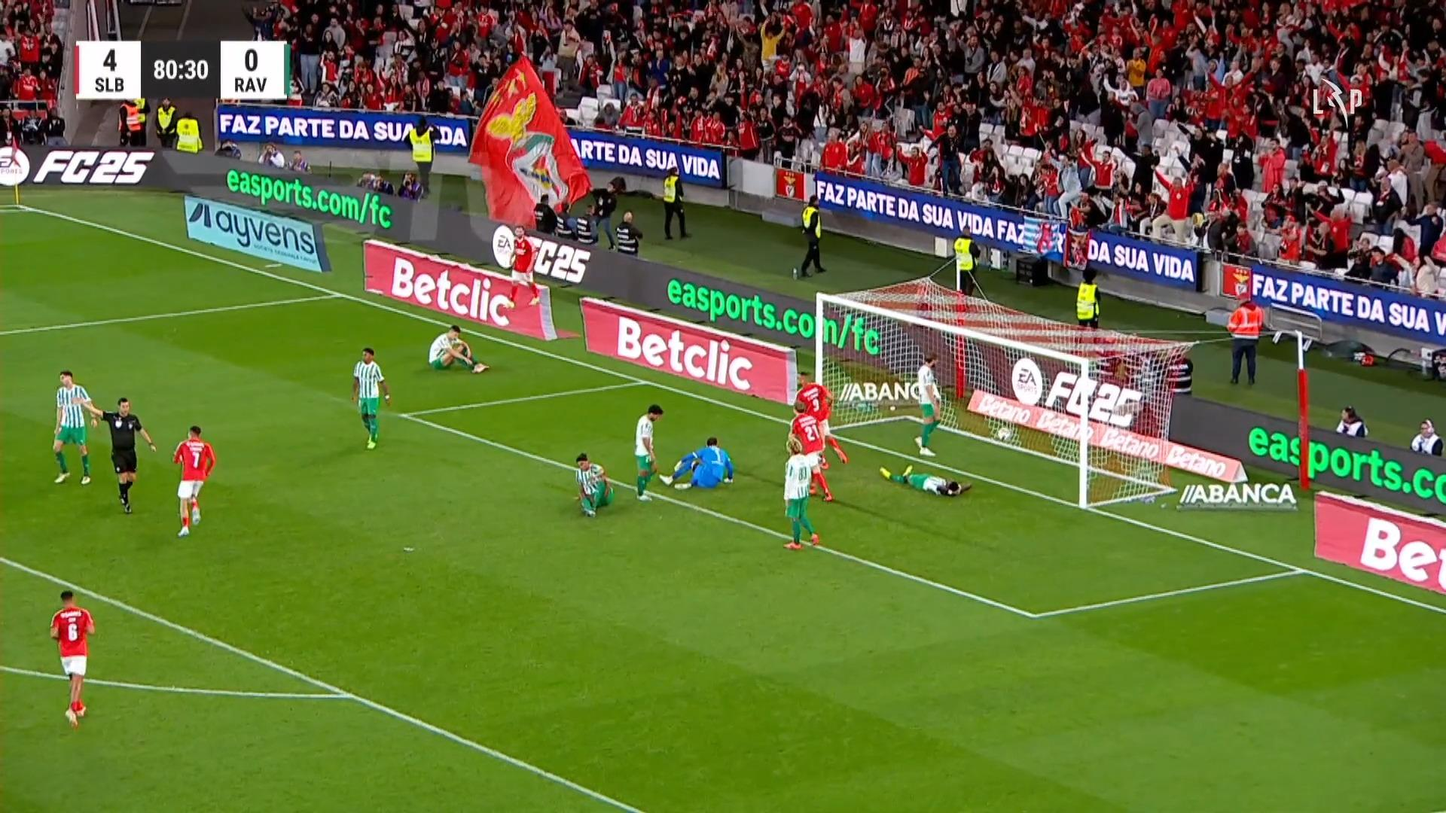goalkeeper: (658, 436, 734, 489)
player: (49, 589, 95, 728), (50, 370, 102, 485), (795, 370, 849, 467), (172, 425, 215, 537), (789, 399, 834, 502), (782, 434, 820, 550), (350, 346, 391, 449), (503, 224, 541, 309), (878, 464, 972, 497), (914, 352, 943, 456), (428, 324, 489, 373), (633, 403, 663, 501), (573, 452, 614, 517)
referee: (80, 395, 157, 514)
